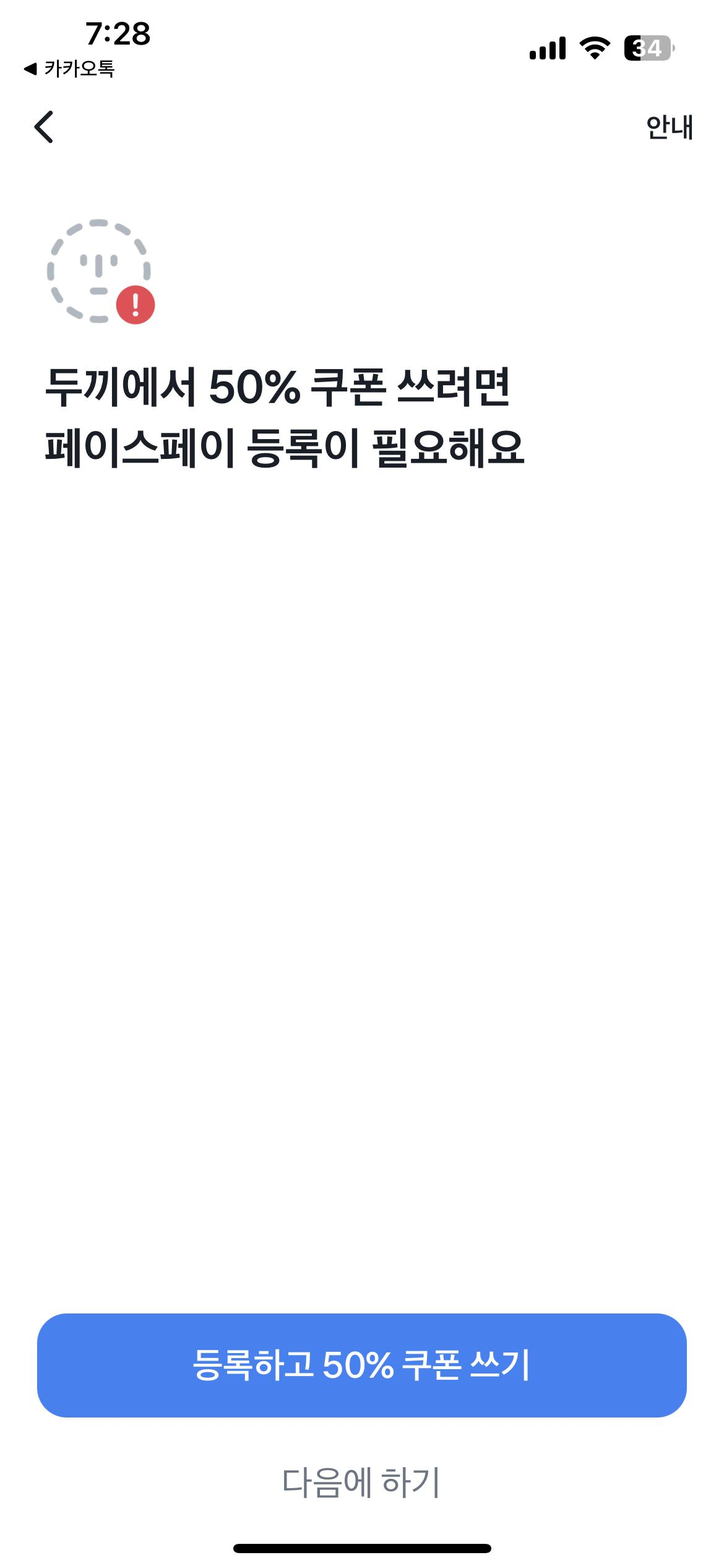button: (25, 1307, 700, 1427), (254, 1443, 461, 1527), (19, 88, 81, 179), (637, 105, 711, 166)
